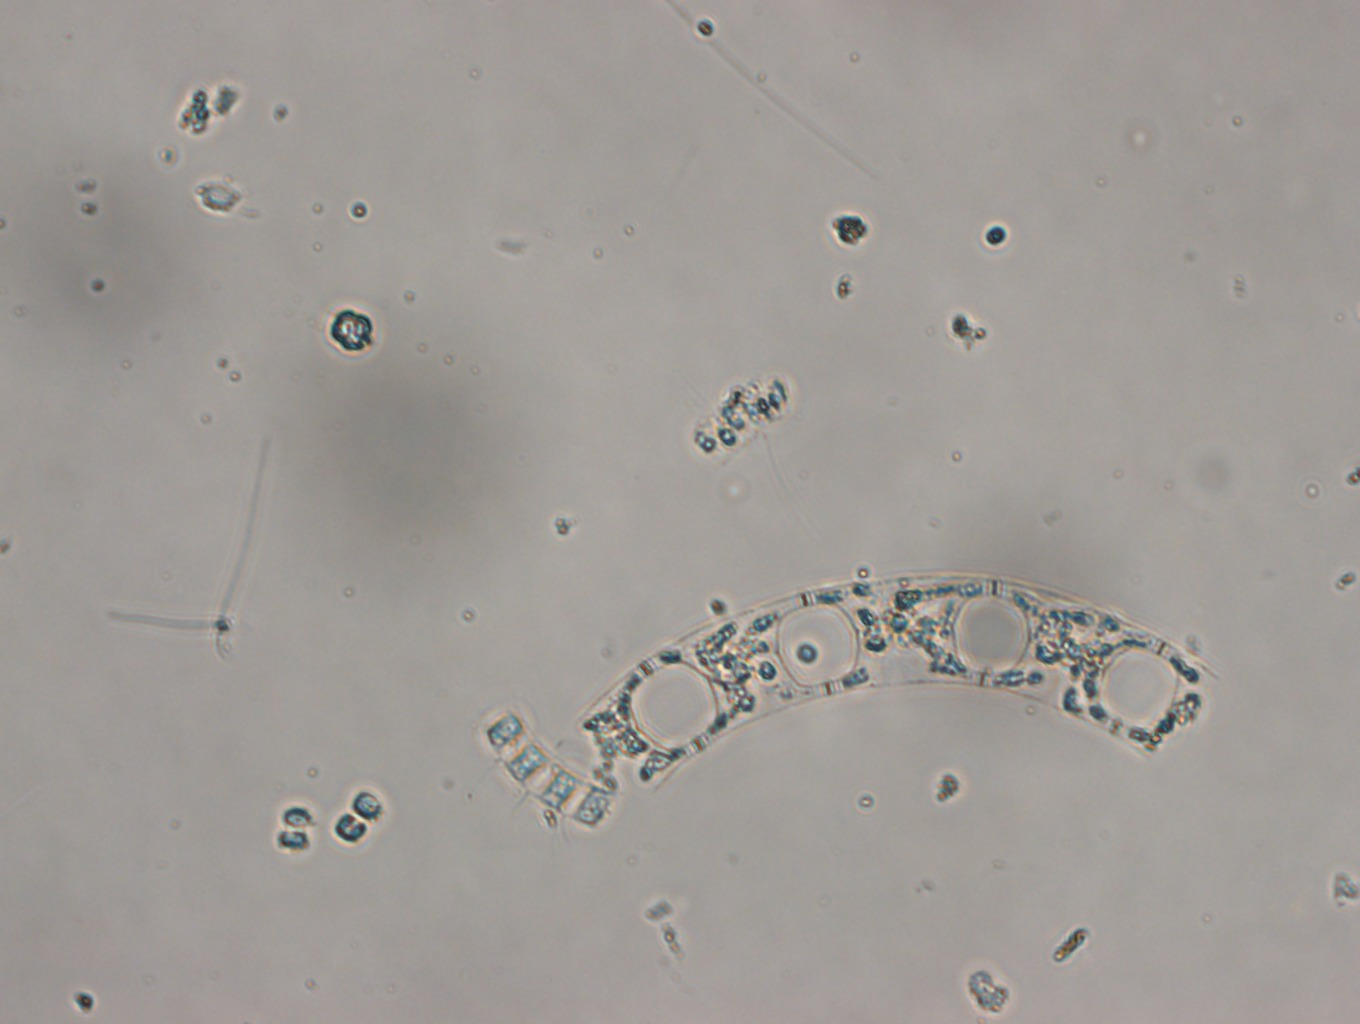eucampia: (581, 567, 1222, 779)
